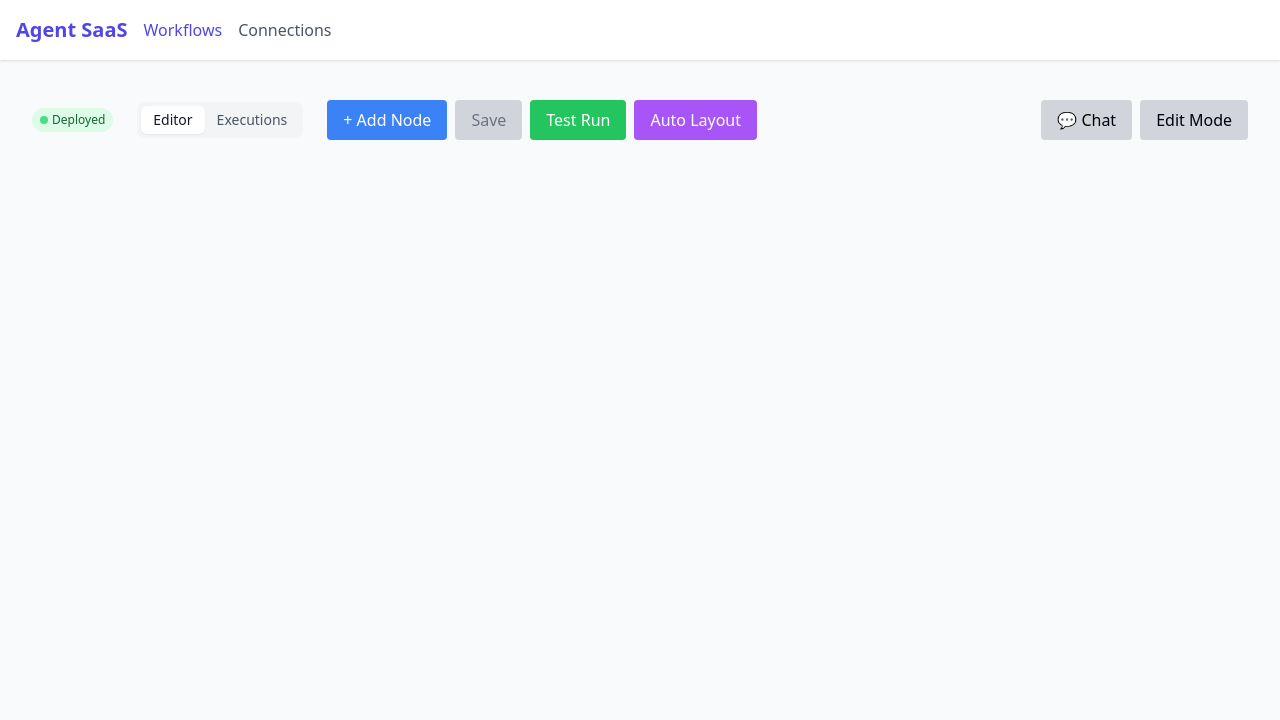
Test: Workflow Builder - Realistic Tests › should open add node modal
This screenshot has width=1280, height=720.
Click the button "+ Add Node". click: (387, 120)
box: [327,100,447,140]
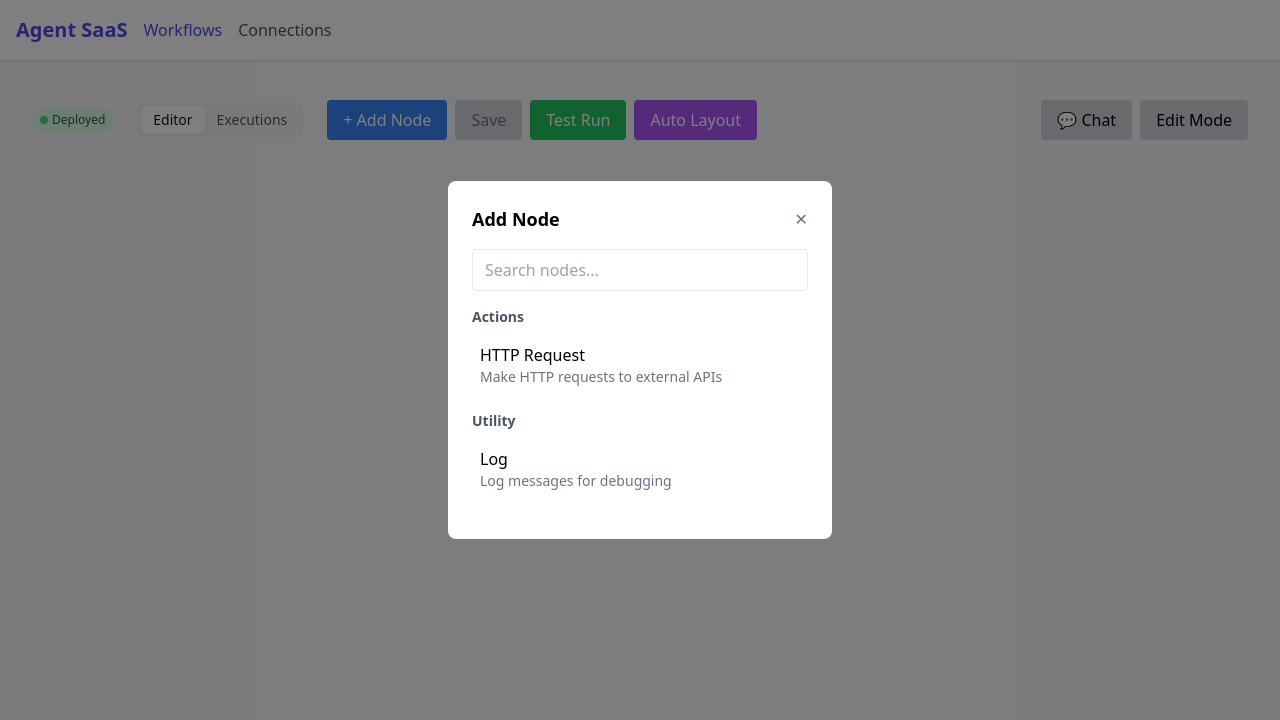
Now the element with class "inset-0" is shown
Now the field with placeholder "Search nodes..." is shown, box [472,249,808,291]
Now the heading "Actions" is shown, box [472,307,524,326]
